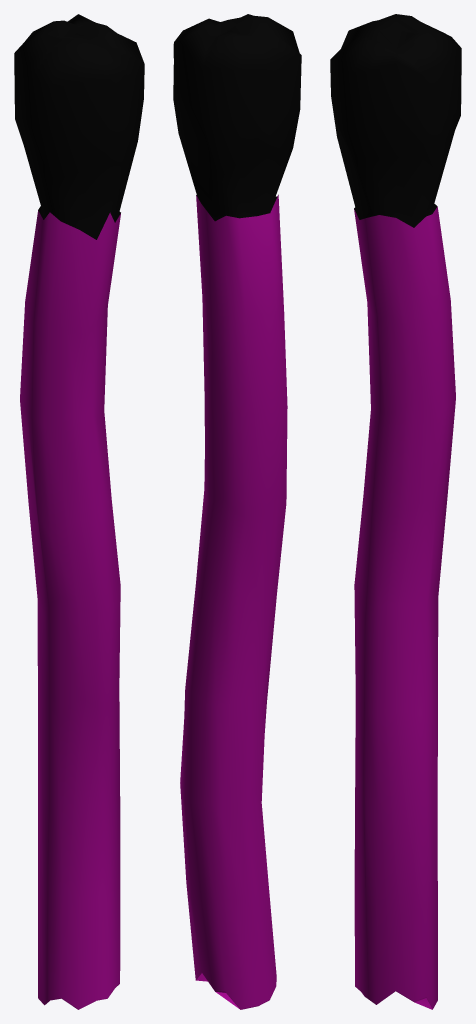
Rendered from ultraviolet.glb.
3 views of the same model, side by side, from view 1: azimuth 90°, elevation 25°; view 2: azimuth 210°, elevation 25°; view 3: azimuth 270°, elevation 25° (orthographic).
Parts seen in each view (by area): view 1: Cube; view 2: Cube; view 3: Cube.
Part boxes in pixels (x1,y1,x2,y2): Cube: (14, 14, 144, 1009); Cube: (173, 14, 301, 1009); Cube: (330, 14, 461, 1009).
Size of the model in its own units: 0.2538 by 2.08 by 0.2542.
